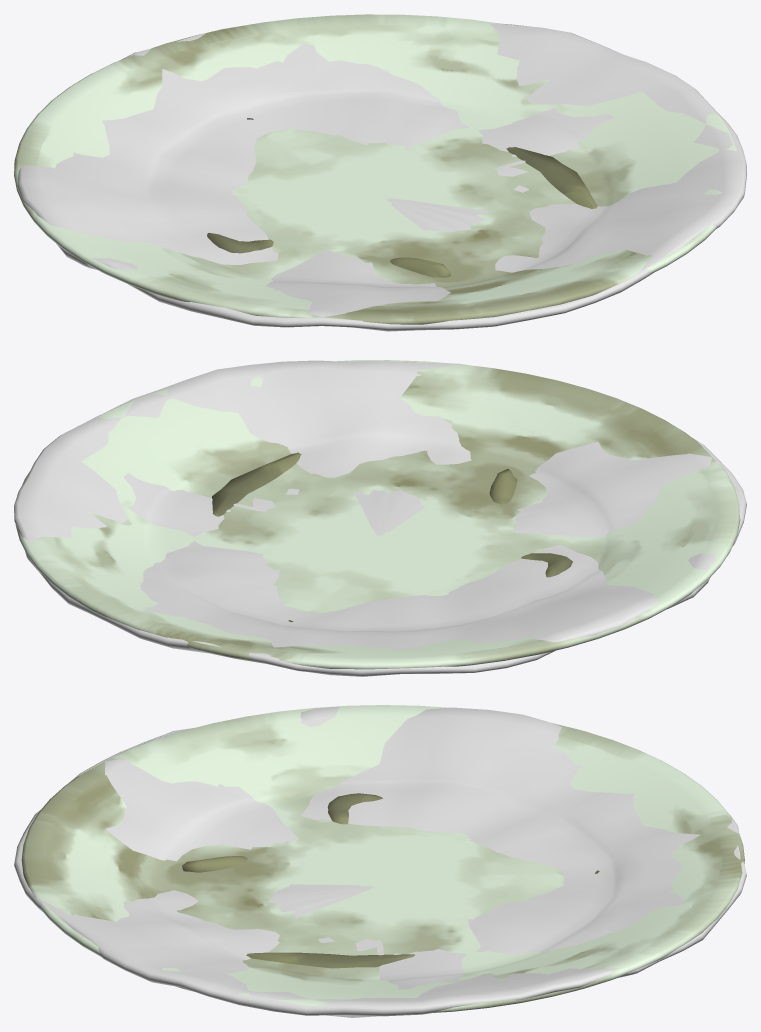
The model's file is dirty_plate.fbx.
3 renders of one model, top to bottom at view 1: azimuth 30°, elevation 25°; view 2: azimuth 150°, elevation 25°; view 3: azimuth 270°, elevation 25°, orthographic.
Parts seen in each view (by area): view 1: plate, gunk; view 2: plate, gunk; view 3: plate, gunk.
Part boxes in pixels (x1,y1,x2,y2): plate: [14, 14, 746, 331]; gunk: [207, 118, 597, 277]; plate: [14, 360, 746, 676]; gunk: [212, 452, 572, 622]; plate: [14, 705, 746, 1017]; gunk: [182, 793, 599, 968].
Size of the model in its own units: 0.5032 by 0.048 by 0.5079.
